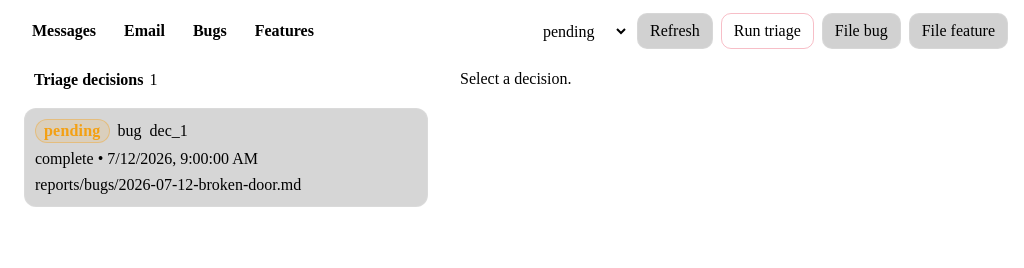
Test case: ReportInboxPage › runs triage and reports the outcome
Expected: the text "reports/bugs/2026-07-12-broken-door.md" is shown, left=35, top=176, right=301, bottom=193
Click the button "Run triage". click: [767, 31]
box: left=721, top=13, right=814, bottom=49
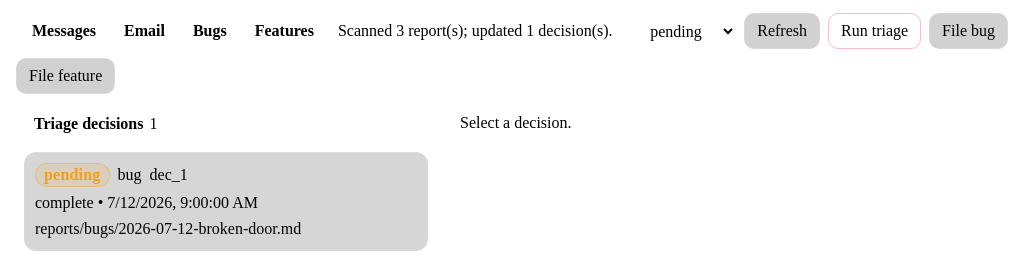
Result: the text "Scanned 3 report(s); updated 1 decision(s)." is shown at left=338, top=22, right=612, bottom=40
